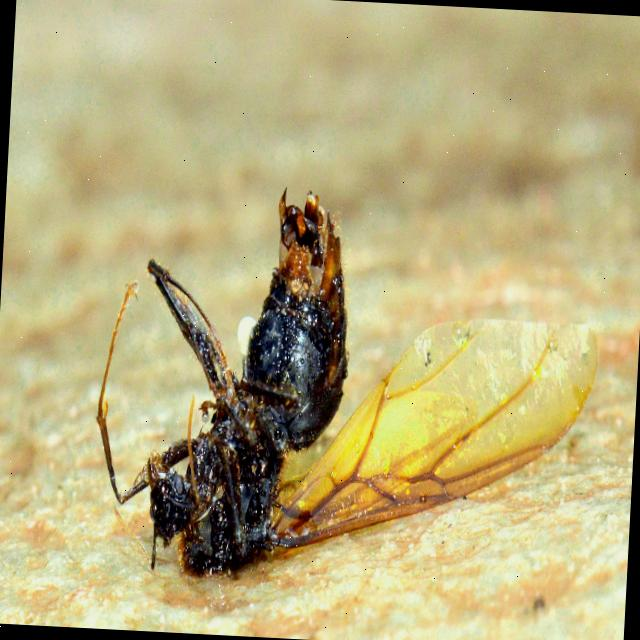Dead-Male-Alate: (89, 178, 607, 603)
